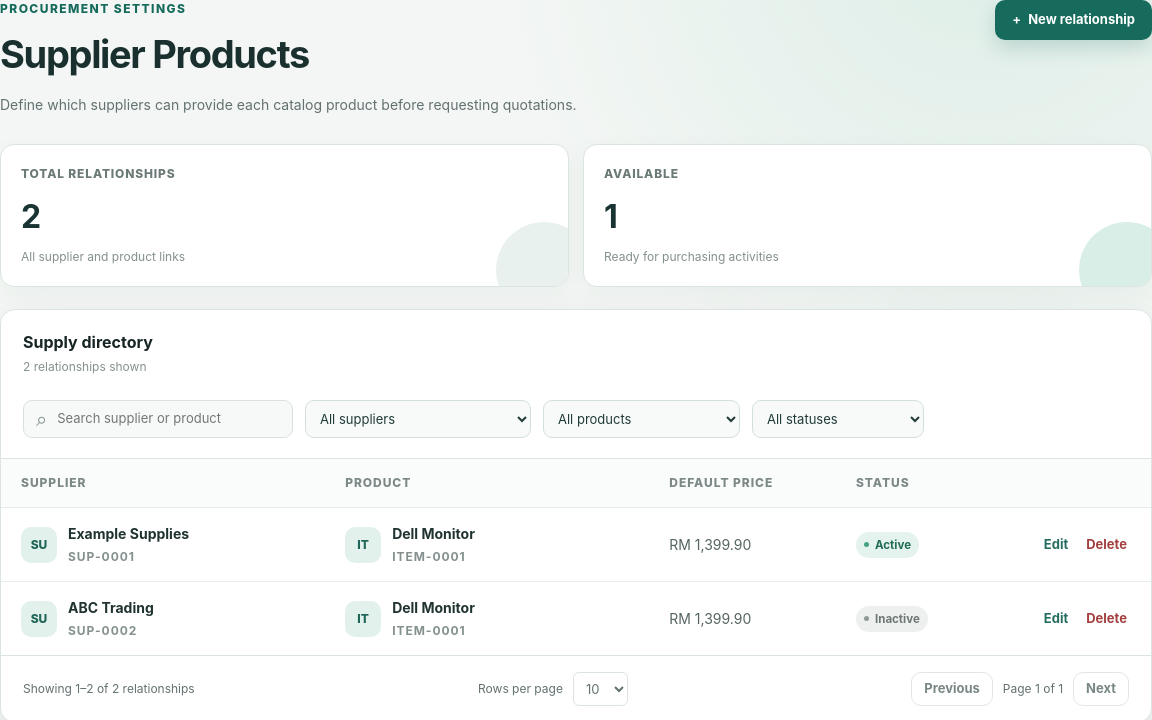
Scenario: SupplierProductListView › loads relationships and supports supplier filtering
Expected: the heading "Supplier Products" is shown, [0, 31, 309, 77]
Expected: the number of elements with class "summary-card" is 2, [0, 144, 569, 287]; [583, 144, 1151, 287]
Select "SUP-0001 - Example Supplies" in the dropdown named "Filter by supplier": coordinates (418, 419) [305, 400, 531, 438]
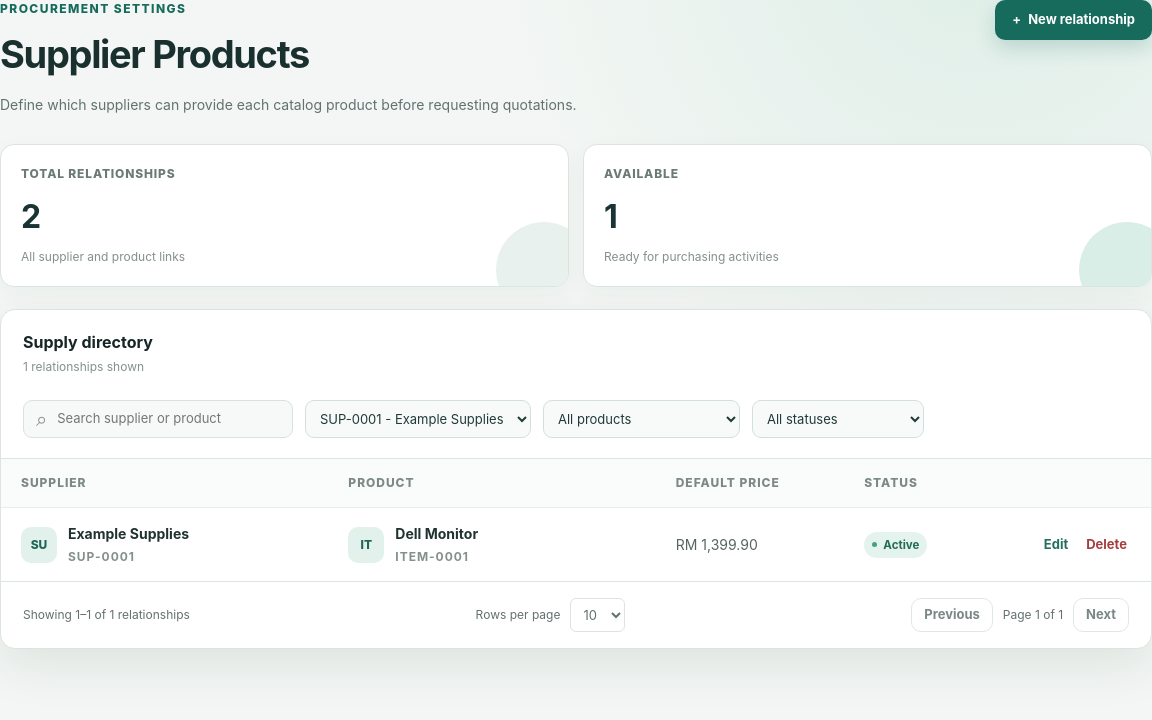
Expected: the table shows "Example Supplies", [68, 525, 189, 542]
Expected: the text "ABC Trading" is gone
